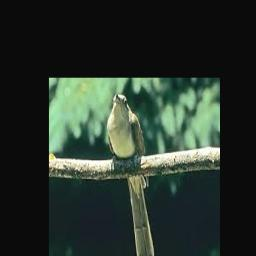Cuckoo: (106, 94, 154, 256)
